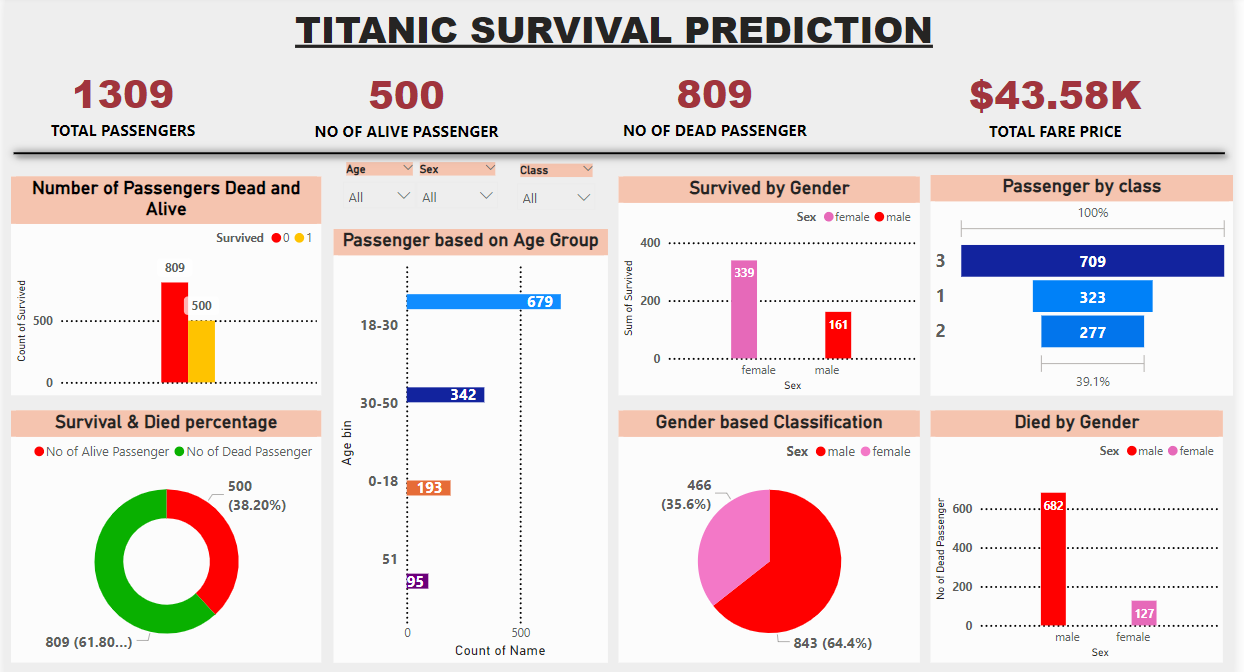

This screenshot's page, from the dashboard's own definition file:
{"tool":"powerbi","page":{"name":"Page 1","canvas":[1280,720],"ordinal":0},"visuals":[{"type":"card","title":"Total Passengers","fields":{"Values":["Titanic DS Cleaned Data.Name"]},"box":[0,57.8,245.4,107.8],"z":0},{"type":"lineClusteredColumnComboChart","title":"Number of Passengers Dead and Alive","fields":{"Y":["Titanic DS Cleaned Data.Survived"],"Series":["Titanic DS Cleaned Data.Survived"]},"box":[6.3,189.1,323.5,228.2],"z":1000},{"type":"card","title":"No of Alive Passenger","fields":{"Values":["Titanic DS Cleaned Data.No of Alive Passenger"]},"box":[295.4,59.4,245.4,107.8],"z":2000},{"type":"card","title":"No of Dead Passenger","fields":{"Values":["Titanic DS Cleaned Data.No of Dead Passenger"]},"box":[609.6,57.8,259.5,107.8],"z":3000},{"type":"card","title":"Total Fare Price","fields":{"Values":["Titanic DS Cleaned Data.Fare"]},"box":[908.1,59.4,372,107.8],"z":4000},{"type":"pieChart","title":"Gender based Classification","fields":{"Category":["Titanic DS Cleaned Data.Sex"],"Y":["Titanic DS Cleaned Data.Sex"]},"box":[639.3,432.9,314.2,262.6],"z":5000},{"type":"funnel","title":"Passenger by class","fields":{"Category":["Titanic DS Cleaned Data.Pclass"],"Y":["Titanic DS Cleaned Data.Name"]},"box":[964.4,187.6,315.7,229.8],"z":6000},{"type":"donutChart","title":"Survival & Died percentage","fields":{"Y":["Titanic DS Cleaned Data.No of Alive Passenger","Titanic DS Cleaned Data.No of Dead Passenger"]},"box":[6.3,432.9,323.5,262.6],"z":7000},{"type":"clusteredColumnChart","title":"Survived by Gender","fields":{"Y":["Titanic DS Cleaned Data.Survived"],"Category":["Titanic DS Cleaned Data.Sex"],"Series":["Titanic DS Cleaned Data.Sex"]},"box":[639.3,189.1,314.2,228.2],"z":8000},{"type":"clusteredColumnChart","title":"Died by Gender","fields":{"Category":["Titanic DS Cleaned Data.Sex"],"Series":["Titanic DS Cleaned Data.Sex"],"Y":["Titanic DS Cleaned Data.No of Dead Passenger"]},"box":[964.4,432.9,304.8,262.6],"z":9000},{"type":"clusteredBarChart","title":"Passenger based on Age Group","fields":{"Y":["Titanic DS Cleaned Data.Name"],"Series":["Titanic DS Cleaned Data.Age bin"],"Category":["Titanic DS Cleaned Data.Age bin"]},"box":[342.3,243.8,286,451.7],"z":10000},{"type":"slicer","fields":{"Values":["Titanic DS Cleaned Data.Age bin"]},"box":[342.3,168.8,95.3,61],"z":11000},{"type":"slicer","fields":{"Values":["Titanic DS Cleaned Data.Sex"]},"box":[418.9,168.8,104.7,62.5],"z":12000},{"type":"slicer","fields":{"Values":["Titanic DS Cleaned Data.Pclass"]},"box":[523.6,170.4,101.6,61],"z":13000},{"type":"shape","box":[0,142.2,1280.1,45.3],"z":14000},{"type":"textbox","box":[0,3.1,1269.1,70.3],"z":15000}]}

Visuals, with their boxes on the page's 1280x720 design canvas (x1, y1, x2, y2). These are canvas units, not pixel positions in the 1244x672 screenshot, which may show the page scaled, cropped or inside an application window:
"Total Passengers" card: bbox=[0, 58, 245, 166]
"Number of Passengers Dead and Alive" lineClusteredColumnComboChart: bbox=[6, 189, 330, 417]
"No of Alive Passenger" card: bbox=[295, 59, 541, 167]
"No of Dead Passenger" card: bbox=[610, 58, 869, 166]
"Total Fare Price" card: bbox=[908, 59, 1280, 167]
"Gender based Classification" pieChart: bbox=[639, 433, 954, 696]
"Passenger by class" funnel: bbox=[964, 188, 1280, 417]
"Survival & Died percentage" donutChart: bbox=[6, 433, 330, 696]
"Survived by Gender" clusteredColumnChart: bbox=[639, 189, 954, 417]
"Died by Gender" clusteredColumnChart: bbox=[964, 433, 1269, 696]
"Passenger based on Age Group" clusteredBarChart: bbox=[342, 244, 628, 696]
slicer - Titanic DS Cleaned Data.Age bin: bbox=[342, 169, 438, 230]
slicer - Titanic DS Cleaned Data.Sex: bbox=[419, 169, 524, 231]
slicer - Titanic DS Cleaned Data.Pclass: bbox=[524, 170, 625, 231]
shape: bbox=[0, 142, 1280, 188]
textbox: bbox=[0, 3, 1269, 73]
